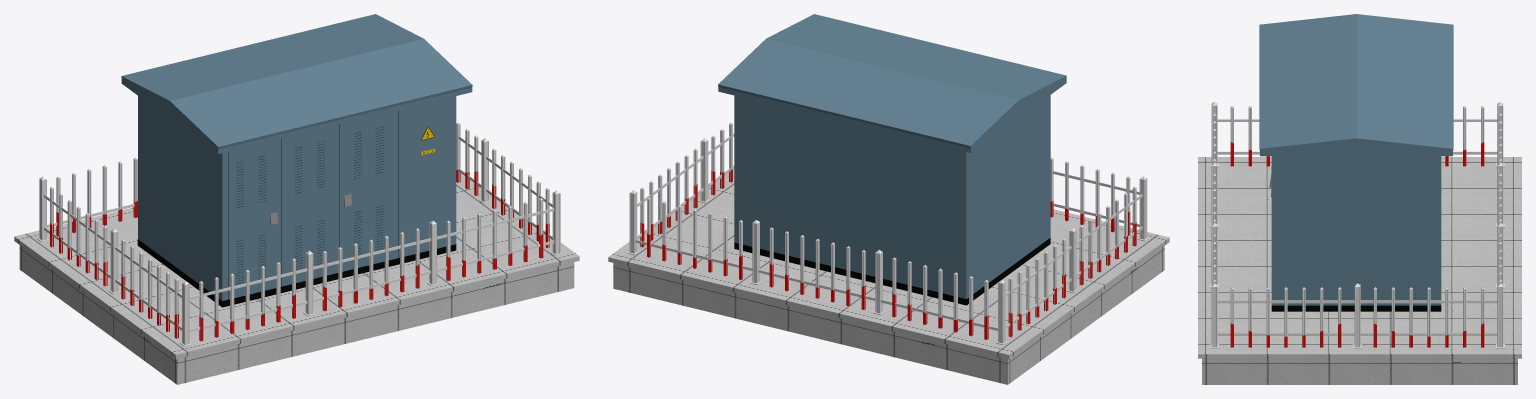
Rendered from peidianfang1.fbx.
3 views of the same model, side by side, from view 1: azimuth 30°, elevation 25°; view 2: azimuth 150°, elevation 25°; view 3: azimuth 270°, elevation 25° (orthographic).
Visible parts, largest first — view 1: Rectangle1356955, Rectangle1339879, Line11, Rectangle13, Rectangle10, Group111128782, Rectangle1356935, Rectangle1356937, Rectangle1356954, Rectangle1356952, Rectangle1356921, Rectangle1356944 (+13 smaller); view 2: Rectangle1356955, Rectangle1339879, Line11, Rectangle13, Rectangle10, Group111128784, Rectangle1356946, Rectangle1356954, Rectangle1356952, Rectangle1356947, Rectangle1356942, Rectangle1356949 (+12 smaller); view 3: Rectangle1339879, Line11, Rectangle1356955, Rectangle13, Rectangle1356944, Rectangle1356942, Rectangle10, Group111128783, Line180553, Line180554, Rectangle1356950, Rectangle1356943 (+11 smaller).
Boxes of the visible parts, x1,y1,x2,y2 form: Rectangle1356955: (138, 96, 456, 300); Rectangle1339879: (14, 170, 579, 384); Line11: (121, 14, 472, 149); Rectangle13: (121, 79, 472, 153); Rectangle10: (137, 239, 456, 307); Group111128782: (199, 234, 543, 341); Rectangle1356935: (322, 228, 419, 310); Rectangle1356937: (446, 198, 543, 279); Rectangle1356954: (121, 239, 178, 338); Rectangle1356952: (50, 187, 107, 285); Rectangle1356921: (199, 258, 295, 340); Rectangle1356944: (492, 148, 549, 247); Rectangle1356955: (734, 95, 1050, 298); Rectangle1339879: (608, 165, 1169, 384); Line11: (718, 14, 1066, 148); Rectangle13: (718, 79, 1066, 152); Rectangle10: (734, 238, 1050, 305); Group111128784: (647, 233, 988, 339); Rectangle1356946: (892, 257, 988, 338); Rectangle1356954: (1079, 186, 1136, 284); Rectangle1356952: (1008, 238, 1065, 336); Rectangle1356947: (769, 227, 865, 308); Rectangle1356942: (640, 148, 697, 246); Rectangle1356949: (647, 197, 742, 278); Rectangle1339879: (1198, 157, 1521, 384); Line11: (1259, 14, 1453, 151); Rectangle1356955: (1271, 156, 1441, 305); Rectangle13: (1260, 141, 1452, 156); Rectangle1356944: (1230, 287, 1341, 336); Rectangle1356942: (1373, 287, 1484, 336); Rectangle10: (1271, 305, 1441, 311); Group111128783: (1230, 323, 1484, 347); Line180553: (1217, 300, 1497, 303); Line180554: (1217, 333, 1497, 335); Rectangle1356950: (1496, 283, 1504, 348); Rectangle1356943: (1353, 283, 1361, 348).
Size of the model in its own units: 69.64 by 34.71 by 48.28.
Materials: 9 (1 with a texture image).
